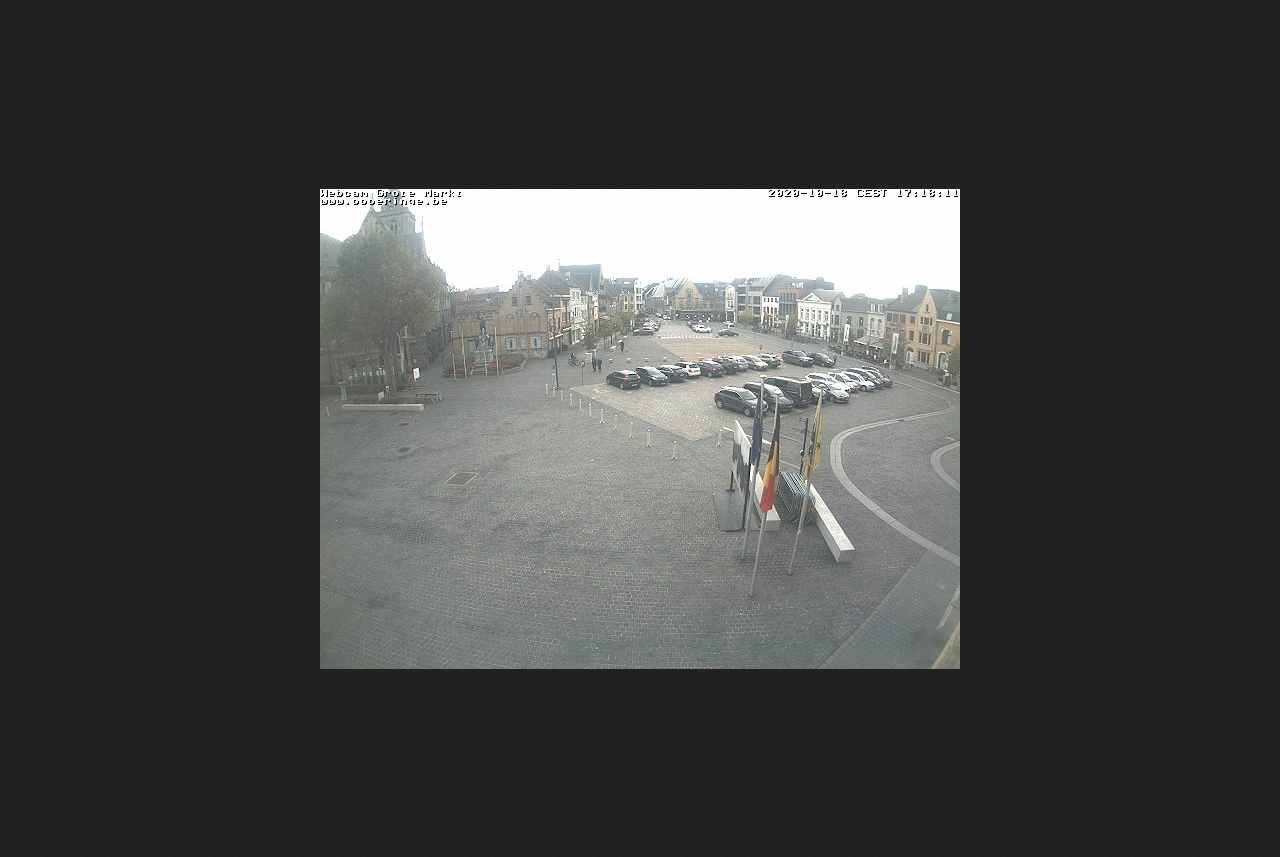no: (803, 398, 824, 482), (762, 419, 779, 514), (750, 399, 764, 465)
